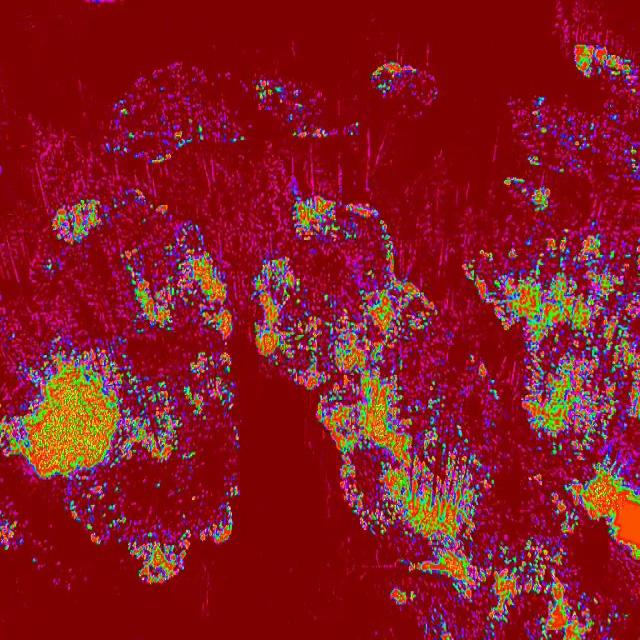fire: (0, 177, 241, 584), (250, 190, 640, 388), (337, 456, 640, 550), (385, 549, 640, 640), (312, 389, 640, 455), (105, 61, 246, 169), (504, 82, 640, 190), (256, 72, 360, 142), (372, 57, 440, 108), (572, 38, 640, 82)
